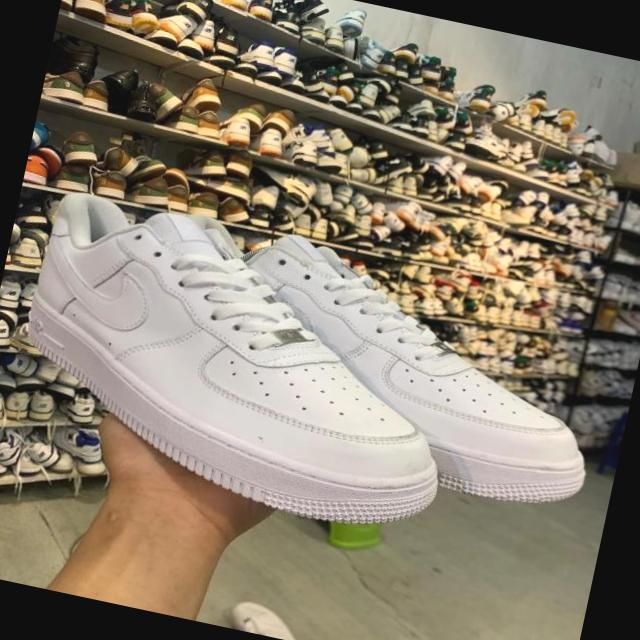nike_fake_airforce: (0, 181, 489, 549), (150, 208, 627, 520)
